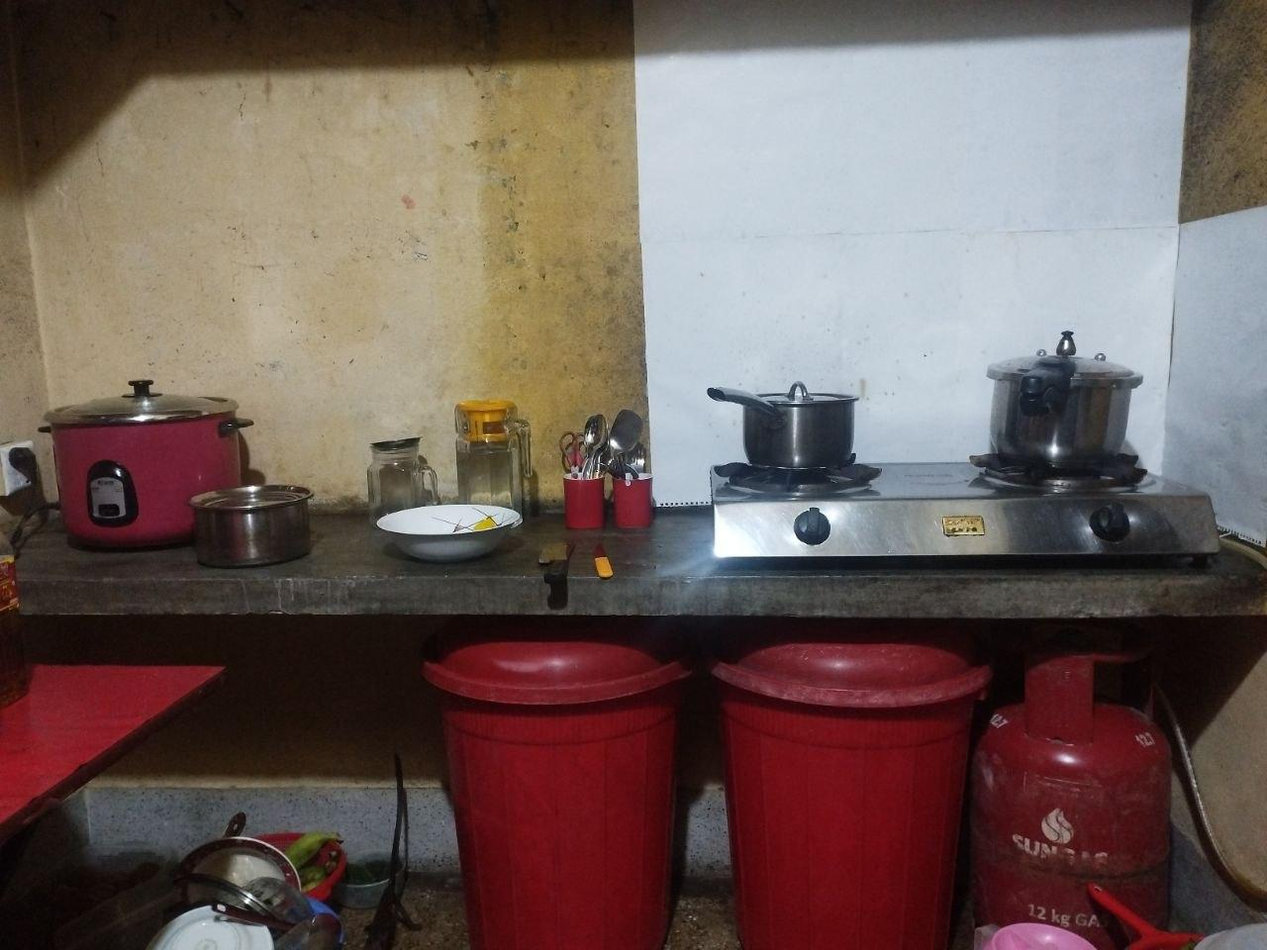Bowl: (351, 508, 543, 559), (532, 535, 578, 599)
Cooker: (30, 376, 260, 556), (963, 341, 1171, 486)
Jar: (355, 431, 443, 544)
Jug: (449, 381, 542, 507)
Kettle: (669, 378, 917, 493)
Knife: (586, 547, 613, 581)
Mug: (556, 450, 666, 526)
Plate: (166, 832, 337, 918)
Spoon: (560, 394, 664, 498)
